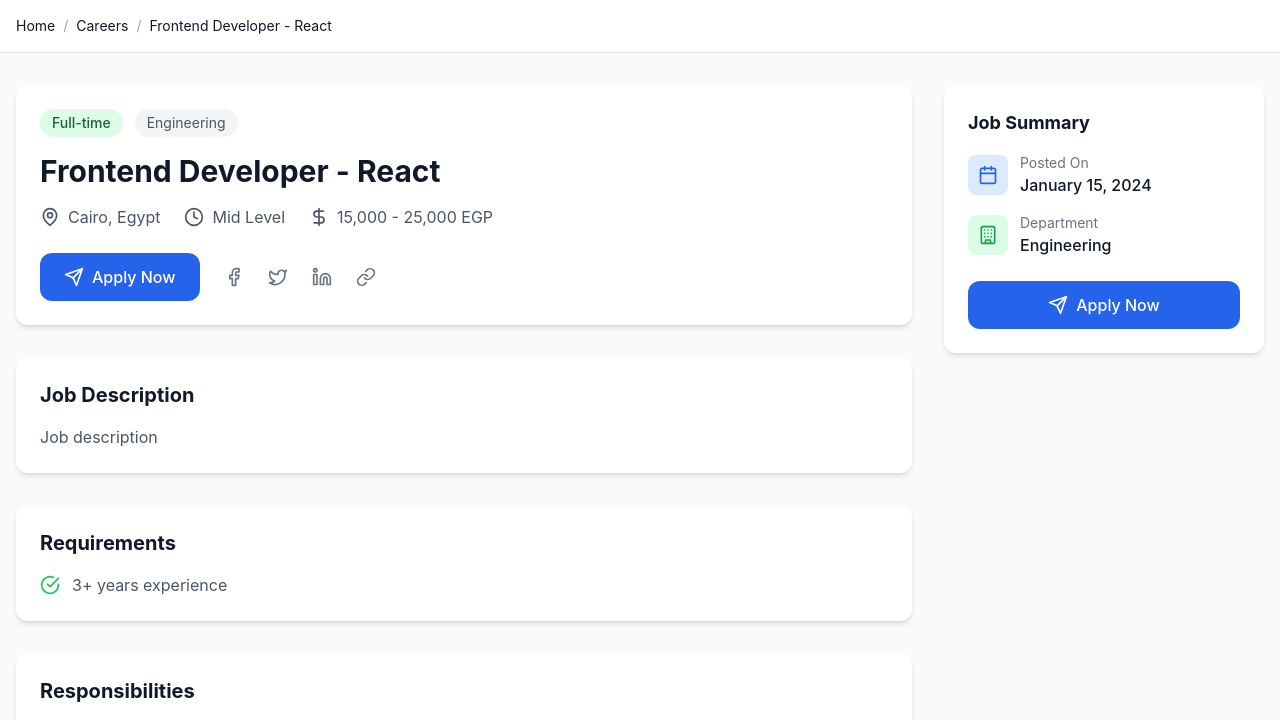
Job Detail Page › Application Modal › opens application modal when clicking Apply Now
Click the button "Apply Now" below "Cairo, Egypt". click: x=120, y=277
box: x1=40 y1=253 x2=200 y2=301
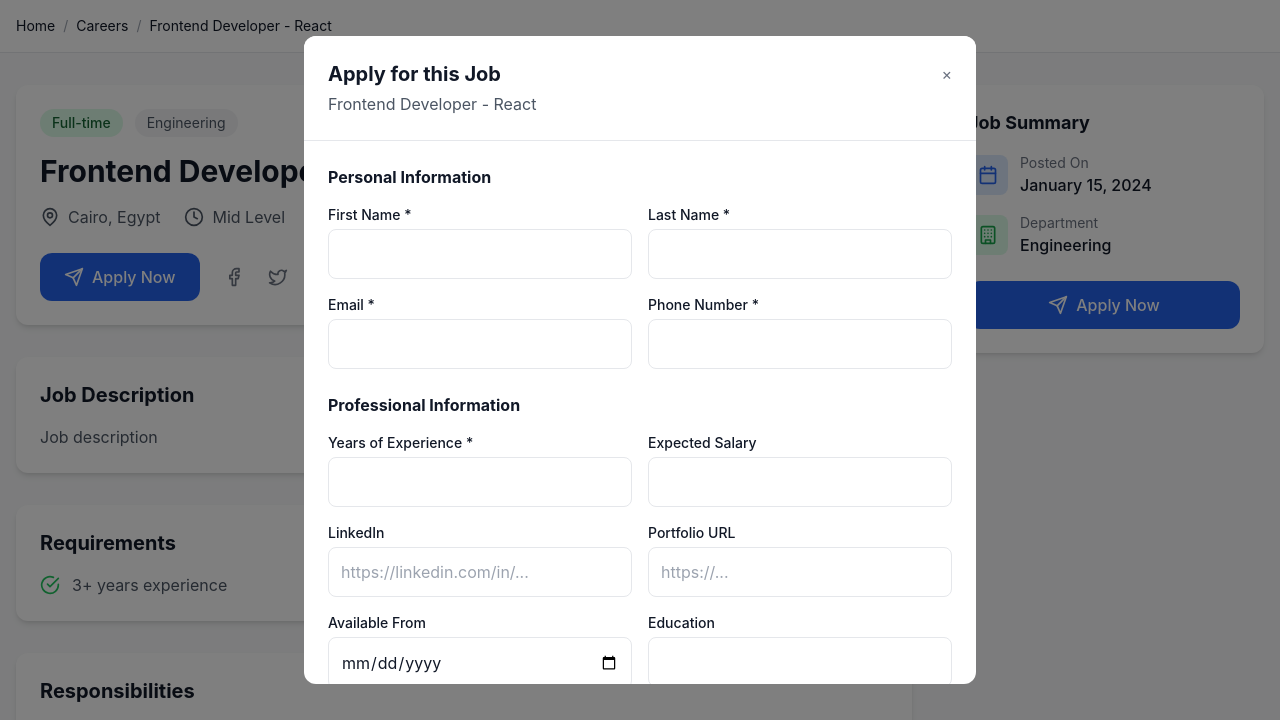
Check: the heading "Apply for this Job" is shown, box x1=328 y1=60 x2=501 y2=88
